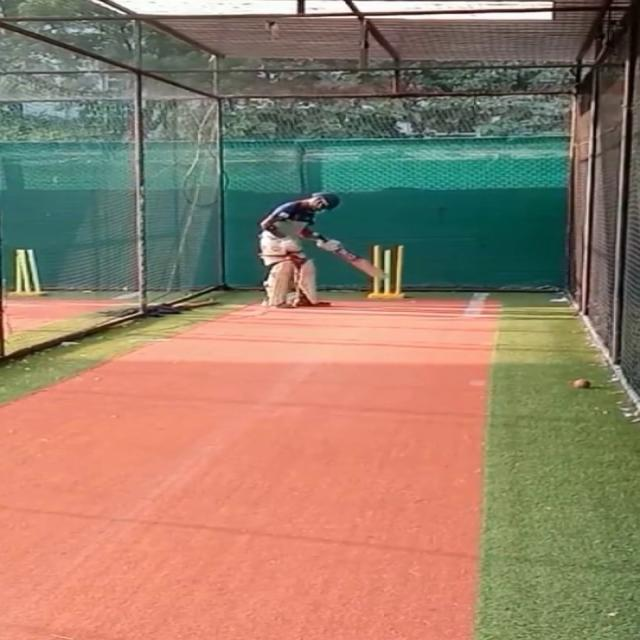ball: (571, 376, 596, 391)
stump: (365, 241, 409, 299), (11, 247, 45, 297)
